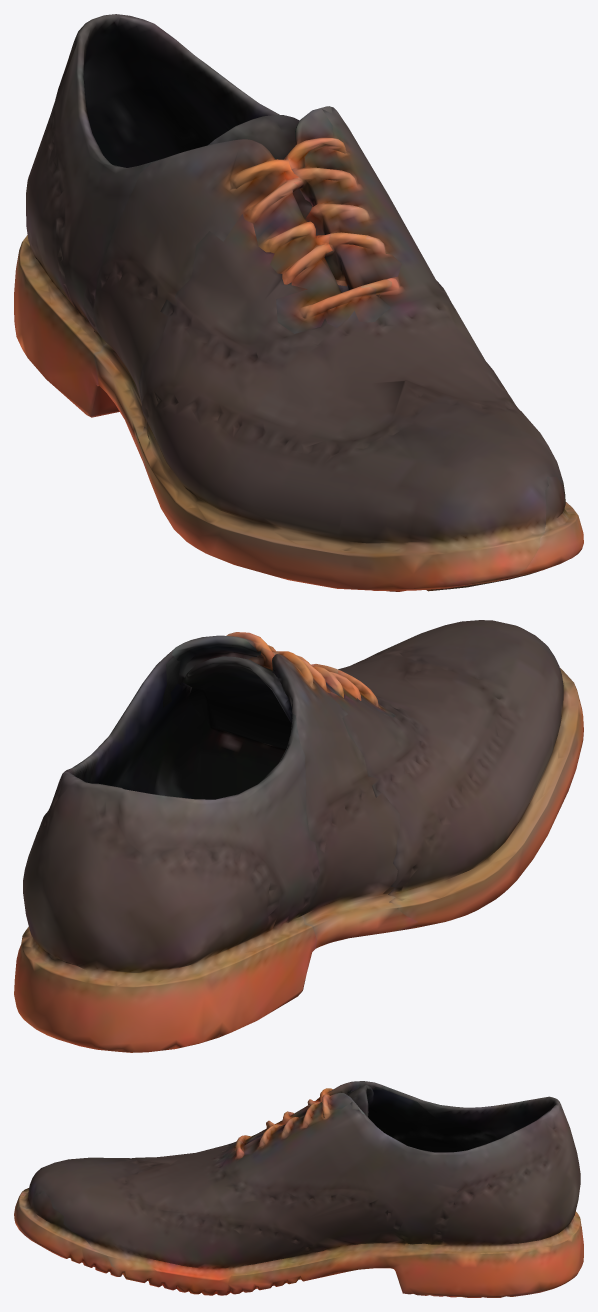
Rendered from Great_Jones_Wingtip-high.glb.
3 views of the same model, one above another, from view 1: azimuth 30°, elevation 25°; view 2: azimuth 150°, elevation 25°; view 3: azimuth 270°, elevation 25° (orthographic). The views are drawn at different scales.
Parts seen in each view (by area): view 1: Great_Jones_Wingtip; view 2: Great_Jones_Wingtip; view 3: Great_Jones_Wingtip.
Part boxes in pixels (bbox=[...]): Great_Jones_Wingtip: bbox=[14, 14, 583, 591]; Great_Jones_Wingtip: bbox=[14, 620, 583, 1052]; Great_Jones_Wingtip: bbox=[14, 1081, 583, 1297].
Bounding box in the file's own units: 0.111 × 0.1132 × 0.3121.
Materials: 1 (1 with a texture image).
